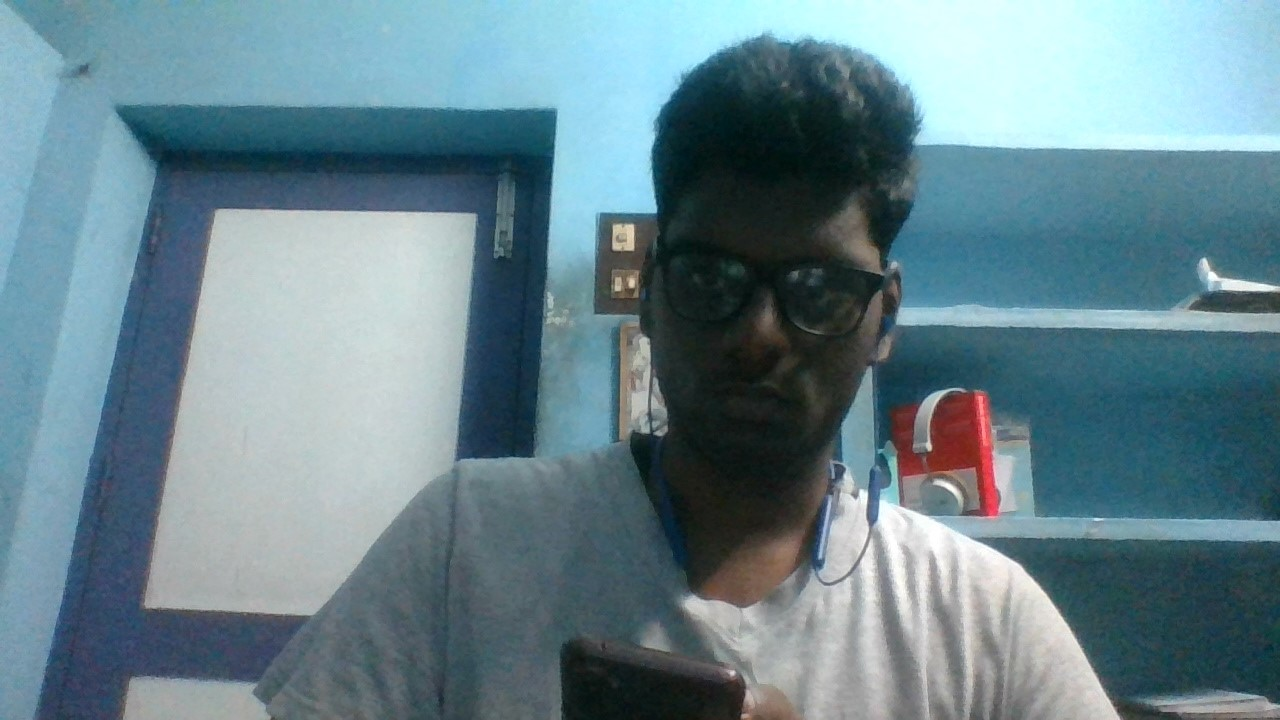mobile phone: (544, 621, 779, 720)
person: (266, 30, 1142, 720)
